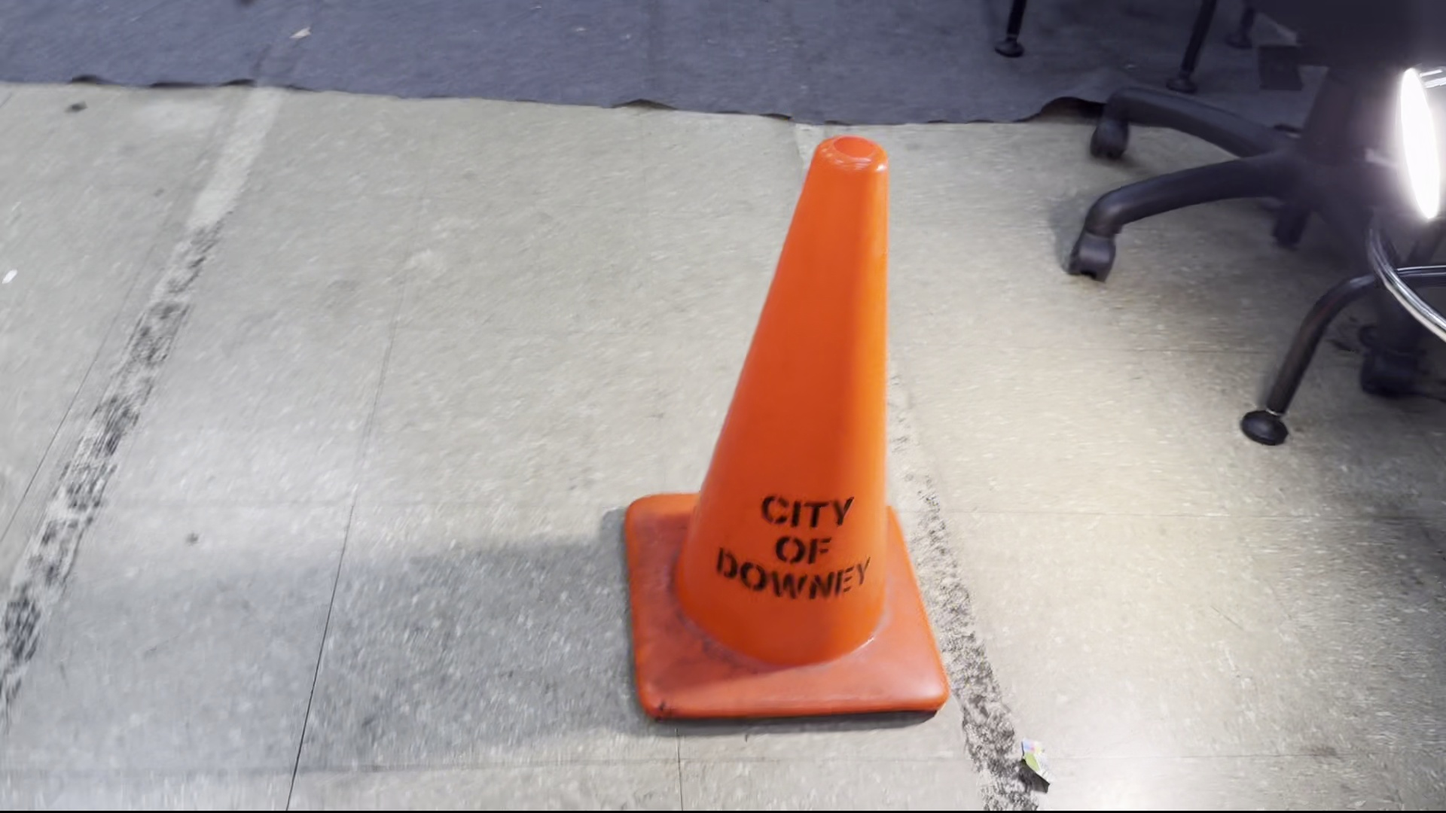traffic_cone: (623, 134, 950, 722)
